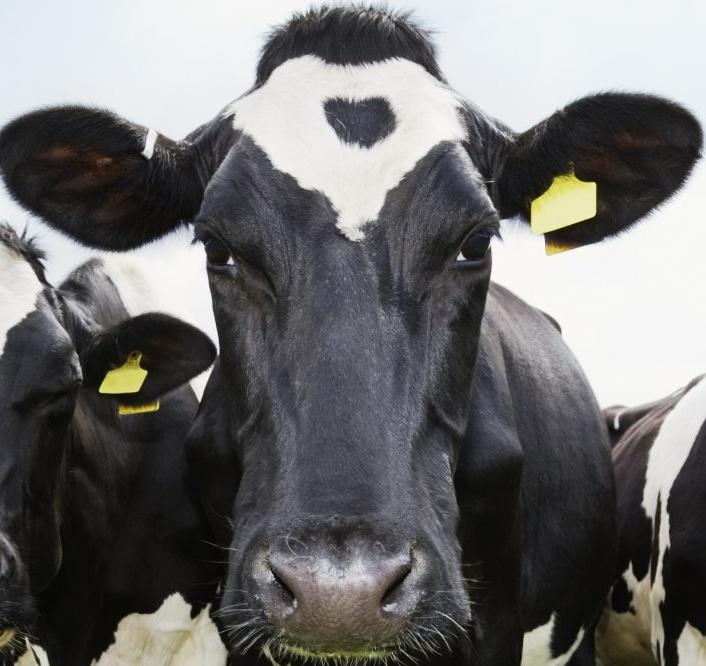muzzles: (204, 525, 479, 666)
